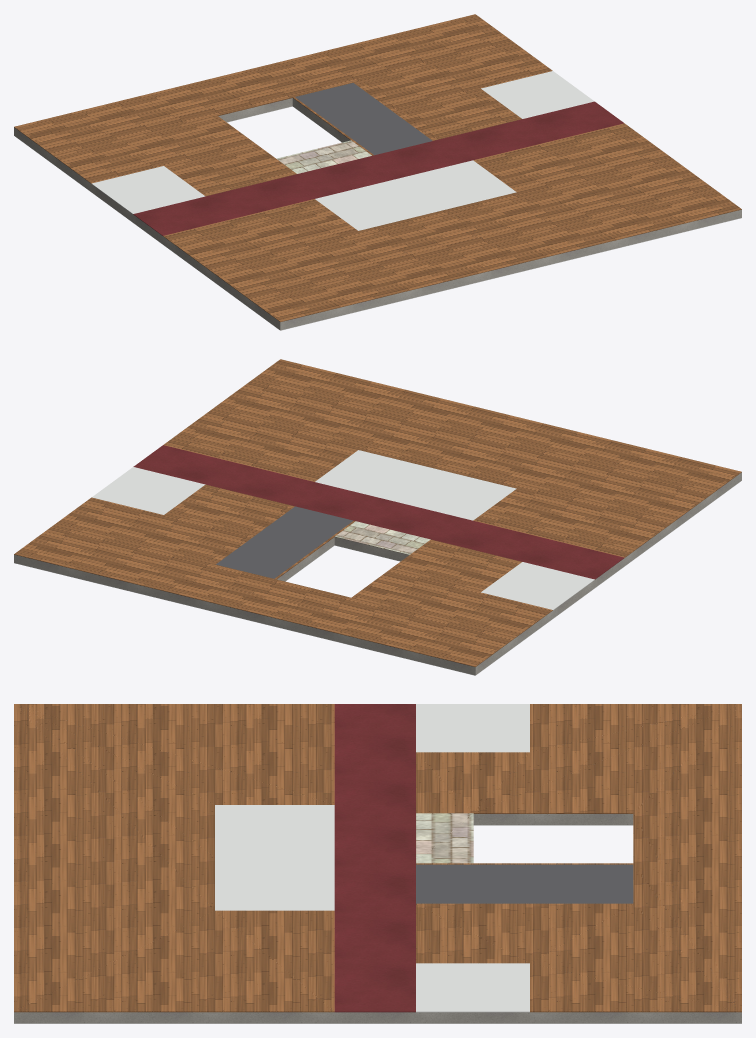
File: slab_low.glb
3 views of the same model, one above another, from view 1: azimuth 30°, elevation 25°; view 2: azimuth 150°, elevation 25°; view 3: azimuth 270°, elevation 25° (orthographic). The views are drawn at different scales.
Visible parts, largest first — view 1: slab_low_parquet, slab_low_carpet, slab_low_tile, slab_low_concrete, slab_low_dark, slab_low_stone, slab_low_ceil; view 2: slab_low_parquet, slab_low_carpet, slab_low_tile, slab_low_concrete, slab_low_dark, slab_low_stone, slab_low_ceil; view 3: slab_low_parquet, slab_low_carpet, slab_low_tile, slab_low_concrete, slab_low_dark, slab_low_stone, slab_low_ceil.
Part boxes in pixels (x1,y1,x2,y2): slab_low_parquet: [14, 14, 741, 322]; slab_low_carpet: [133, 101, 623, 235]; slab_low_tile: [91, 71, 594, 230]; slab_low_concrete: [14, 98, 741, 330]; slab_low_dark: [295, 83, 432, 155]; slab_low_stone: [276, 140, 371, 173]; slab_low_ceil: [14, 106, 741, 330]; slab_low_parquet: [14, 359, 741, 667]; slab_low_carpet: [133, 445, 624, 579]; slab_low_tile: [92, 450, 594, 610]; slab_low_concrete: [14, 472, 741, 675]; slab_low_dark: [216, 506, 353, 578]; slab_low_stone: [335, 521, 430, 554]; slab_low_ceil: [14, 480, 741, 675]; slab_low_parquet: [14, 704, 741, 1012]; slab_low_carpet: [334, 704, 415, 1012]; slab_low_tile: [215, 704, 529, 1012]; slab_low_concrete: [14, 814, 741, 1023]; slab_low_dark: [416, 864, 633, 903]; slab_low_stone: [416, 813, 473, 863]; slab_low_ceil: [14, 825, 741, 1023].
Size of the model in its own units: 13.4 by 0.25 by 13.4.
7 materials, 4 textured.
